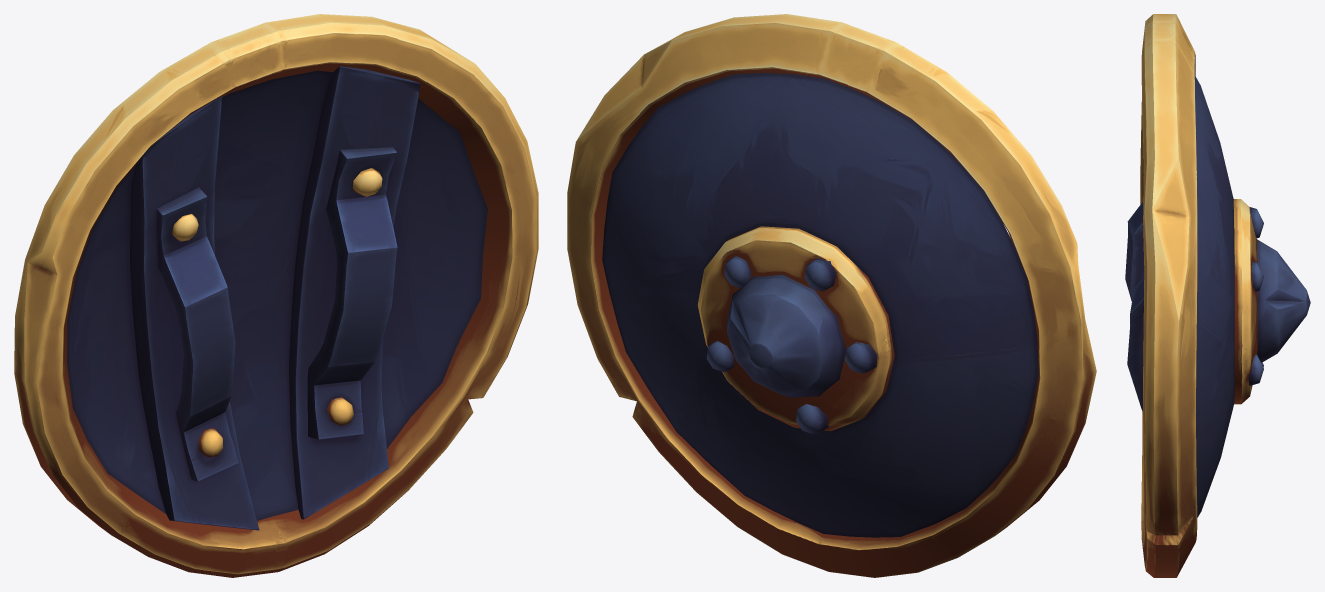
The model's file is SM_Dark_Player_Shield.fbx.
3 renders of one model, left to right at view 1: azimuth 30°, elevation 25°; view 2: azimuth 150°, elevation 25°; view 3: azimuth 270°, elevation 25°, orthographic. The views are drawn at different scales.
Parts seen in each view (by area): view 1: SM_Dark_Player_Shield; view 2: SM_Dark_Player_Shield; view 3: SM_Dark_Player_Shield.
Part boxes in pixels (x1,y1,x2,y2): SM_Dark_Player_Shield: (14,14,538,577); SM_Dark_Player_Shield: (567,14,1096,577); SM_Dark_Player_Shield: (1125,14,1310,577).
Bounding box in the file's own units: 0.8822 × 0.8842 × 0.2876.
